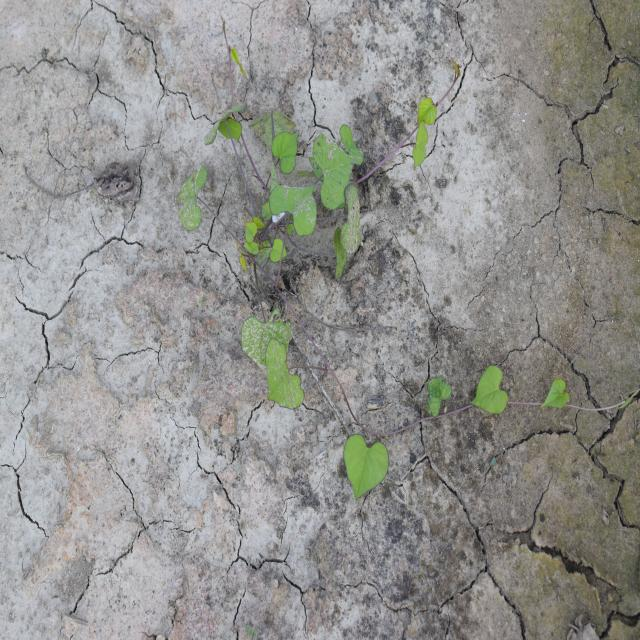MorningGlory: (168, 13, 638, 506)
